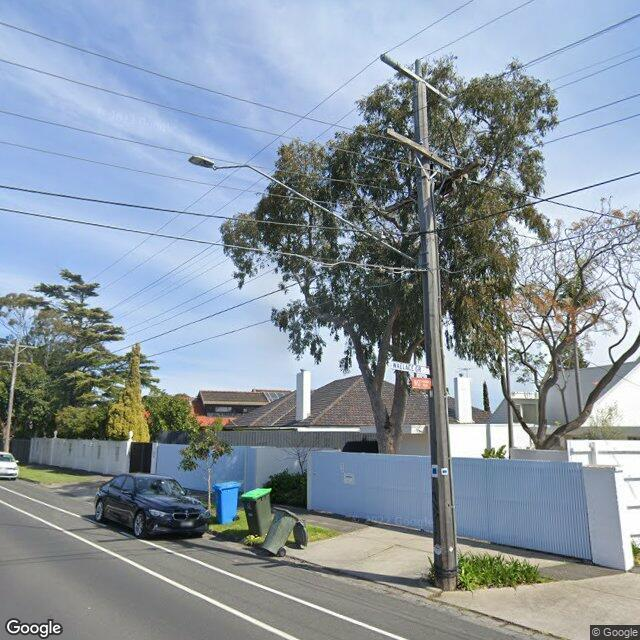HV-transmission: (381, 54, 453, 105), (0, 338, 39, 349)
concrete-pole: (414, 81, 459, 591)
crossarm: (384, 127, 454, 172), (398, 65, 439, 96), (0, 360, 31, 365), (6, 344, 29, 348)
streetlight: (188, 155, 420, 267)
timber-pole: (3, 342, 20, 452)
